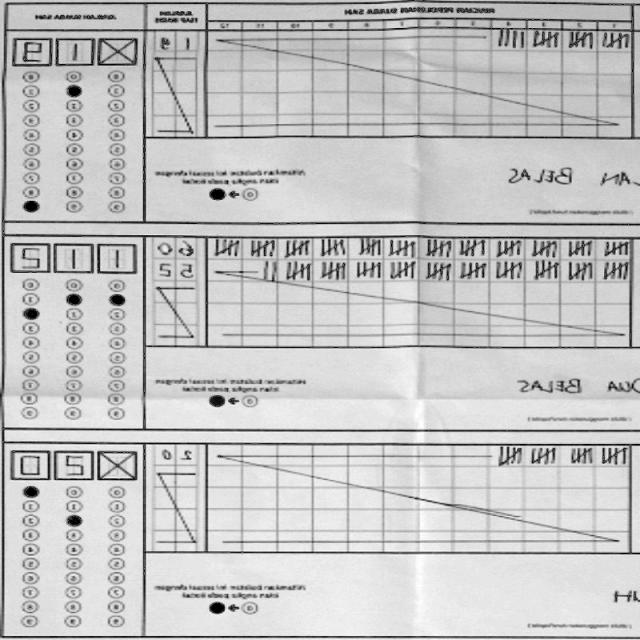Suara: (7, 31, 143, 69), (7, 237, 142, 274), (7, 446, 142, 483)
